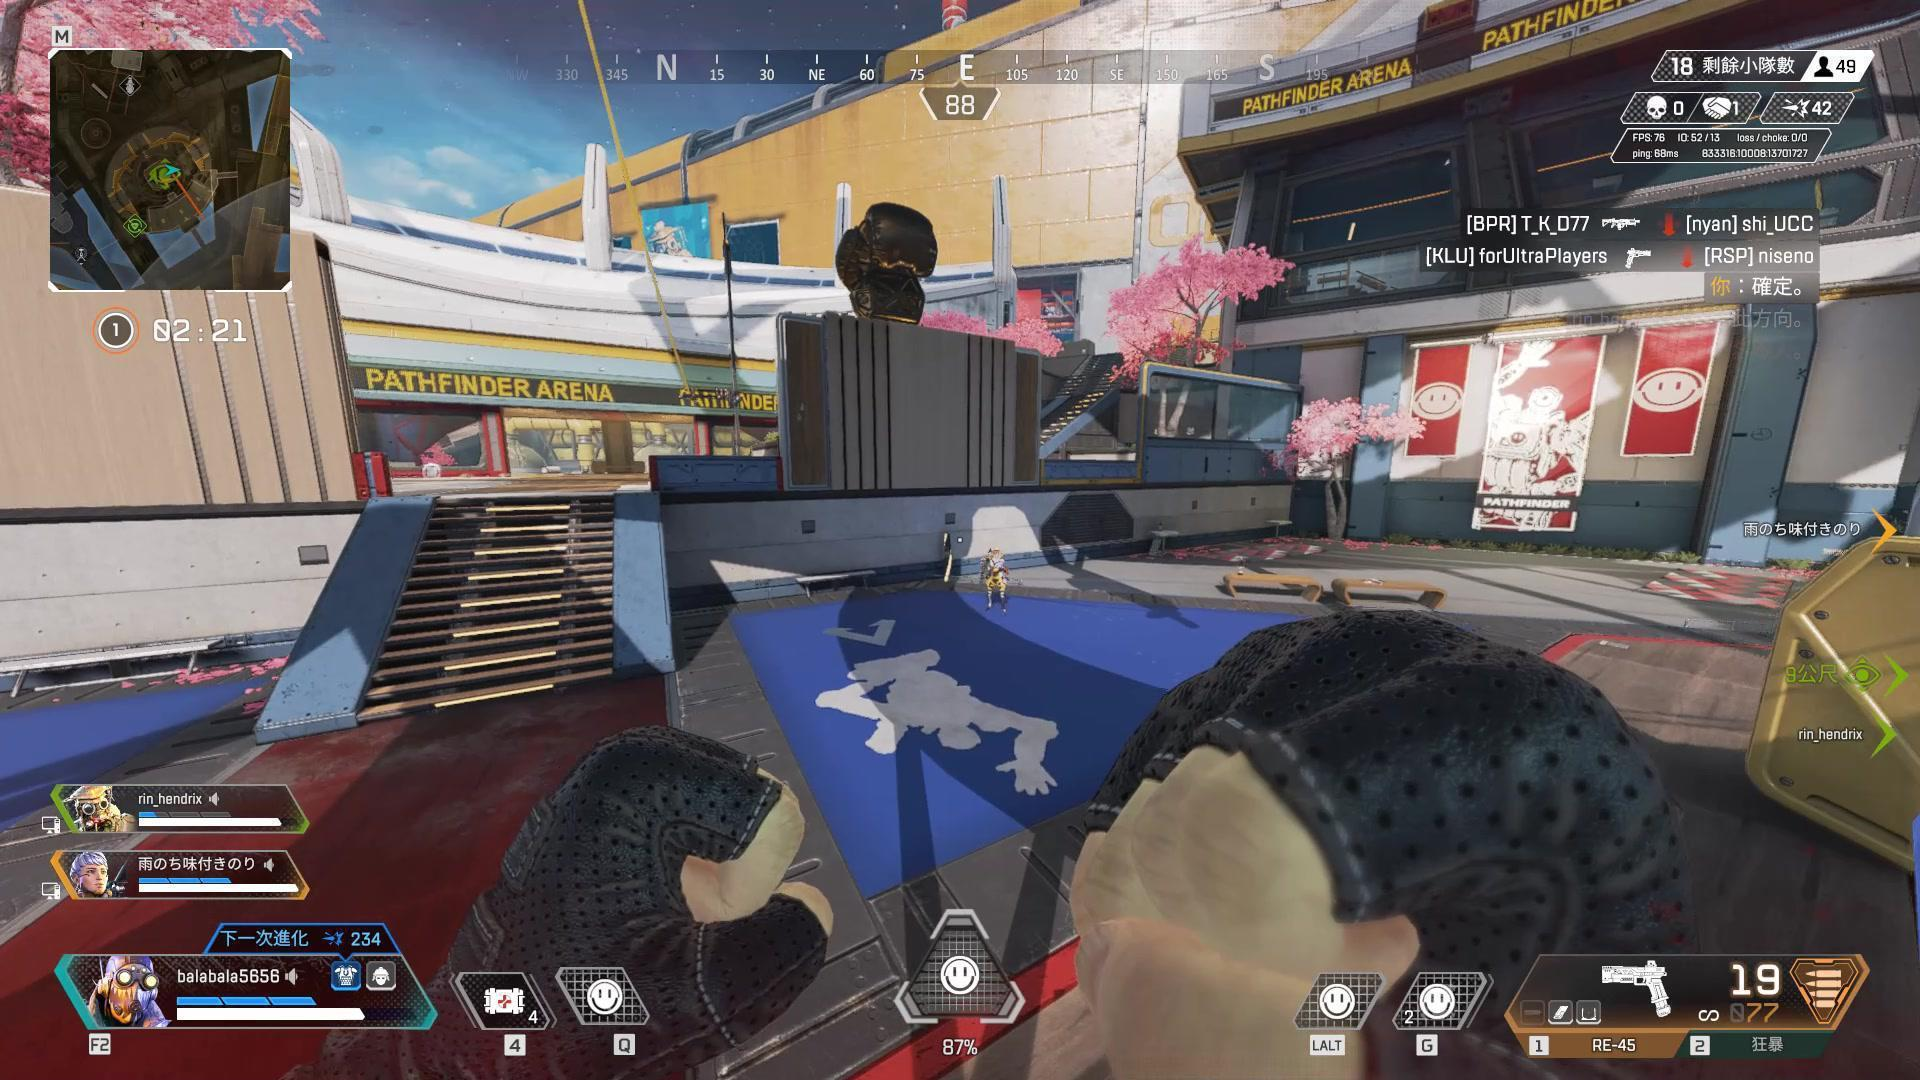avatar: (982, 544, 1009, 611)
